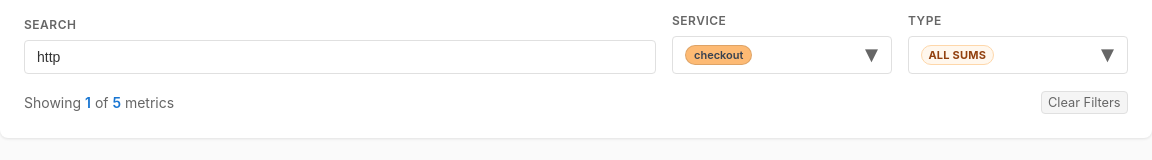
Scenario: MetricsFilter › shows and applies clear filters action
expect the field named "Search metrics" holds "http": met, box x1=24 y1=40 x2=656 y2=74
expect the button with aria-label "Metric type" shows "All Sums": met, box x1=908 y1=36 x2=1128 y2=74
Click the button "Clear Filters".
click(1084, 102)  # box x1=1040 y1=91 x2=1128 y2=114
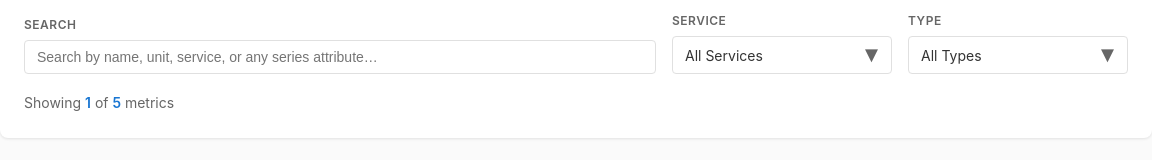
expect the field named "Search metrics" is empty: met, box x1=24 y1=40 x2=656 y2=74
expect the button with aria-label "Metric type" shows "All Types": met, box x1=908 y1=36 x2=1128 y2=74
expect the button labelled "All Services ▾" is shown: met, box x1=672 y1=36 x2=892 y2=74
